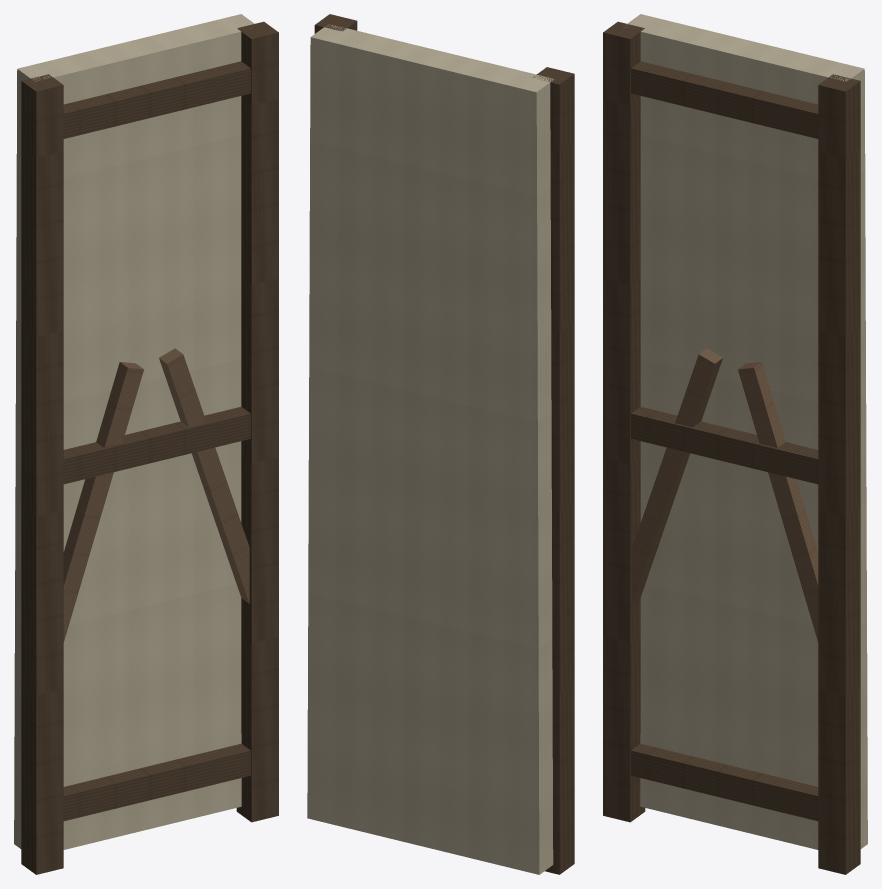
The model's file is village__04__old_warehouse__back_frame__section_06.glb.
3 views of the same model, side by side, from view 1: azimuth 30°, elevation 25°; view 2: azimuth 150°, elevation 25°; view 3: azimuth 330°, elevation 25° (orthographic).
Visible parts, largest first — view 1: BackFrame_Section_06; view 2: BackFrame_Section_06; view 3: BackFrame_Section_06.
Boxes of the visible parts, <box> form: BackFrame_Section_06: <box>14,14,278,874</box>; BackFrame_Section_06: <box>307,14,574,874</box>; BackFrame_Section_06: <box>603,14,867,874</box>.
Bounding box in the file's own units: 1.42 × 4.37 × 0.2887.
3 materials, 3 textured.
